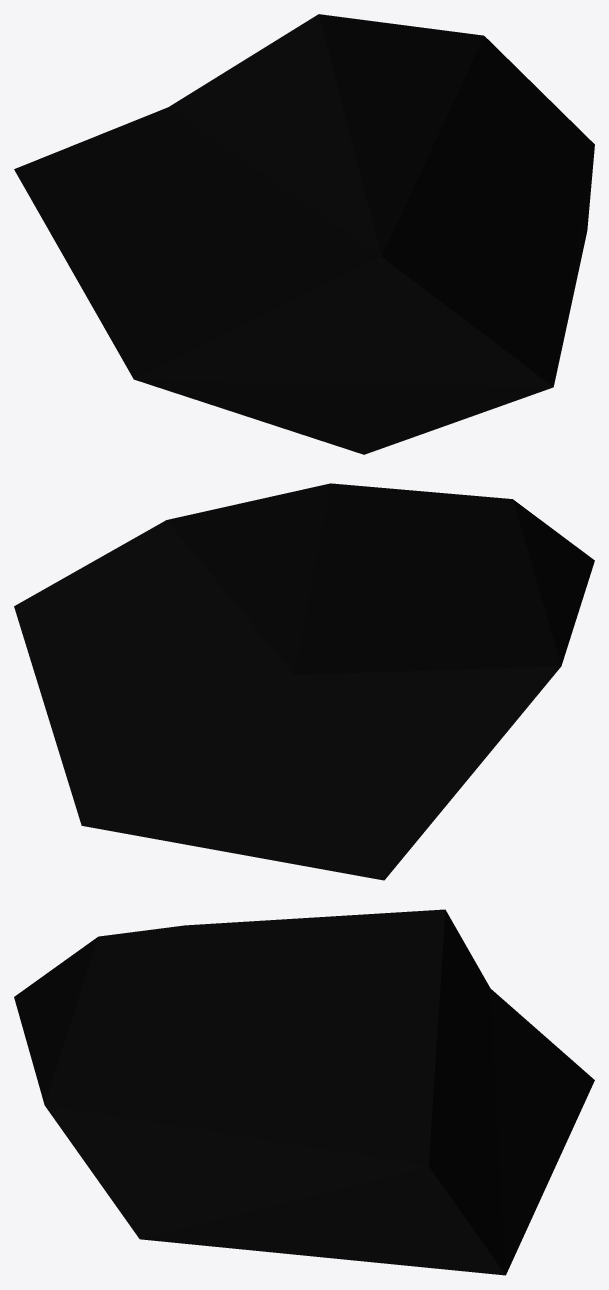
3 views of the same model, one above another, from view 1: azimuth 30°, elevation 25°; view 2: azimuth 150°, elevation 25°; view 3: azimuth 270°, elevation 25° (orthographic). The views are drawn at different scales.
Bounding box in the file's own units: 0.1678 × 0.0755 × 0.191.
Materials: 1 (1 with a texture image).
